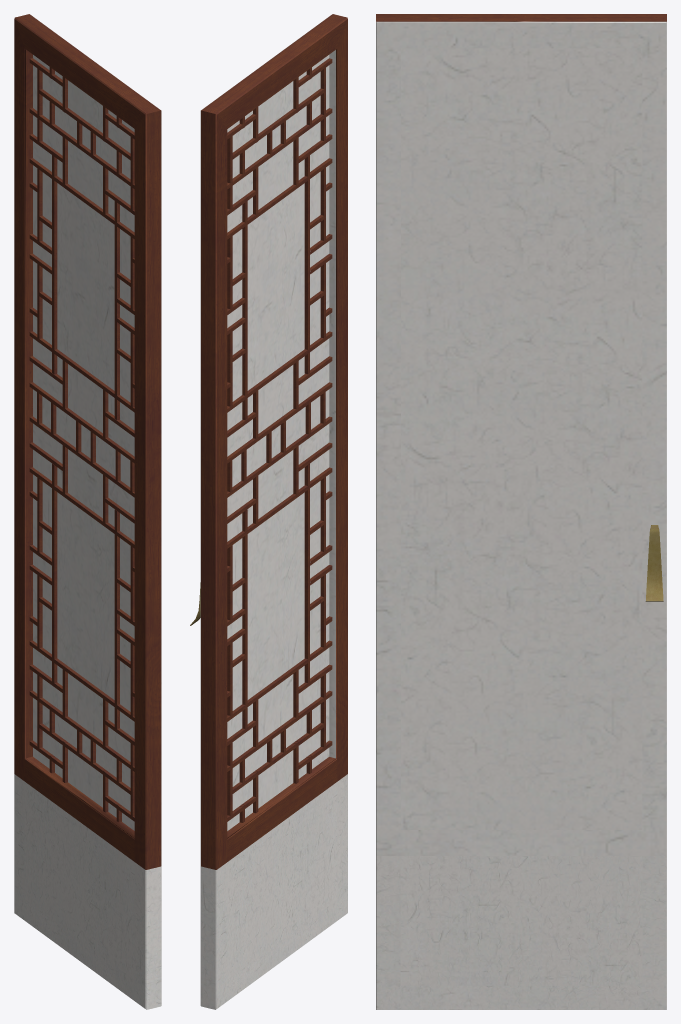
Rendered from SM_Door16C.fbx.
3 views of the same model, side by side, from view 1: azimuth 30°, elevation 25°; view 2: azimuth 150°, elevation 25°; view 3: azimuth 270°, elevation 25° (orthographic). The views are drawn at different scales.
Parts seen in each view (by area): view 1: SM_Door16C; view 2: SM_Door16C; view 3: SM_Door16C.
Boxes of the visible parts, <box> form: SM_Door16C: <box>14,14,161,1009</box>; SM_Door16C: <box>190,14,347,1009</box>; SM_Door16C: <box>376,14,666,1009</box>.
Size of the model in its own units: 6.05 by 49.31 by 185.
